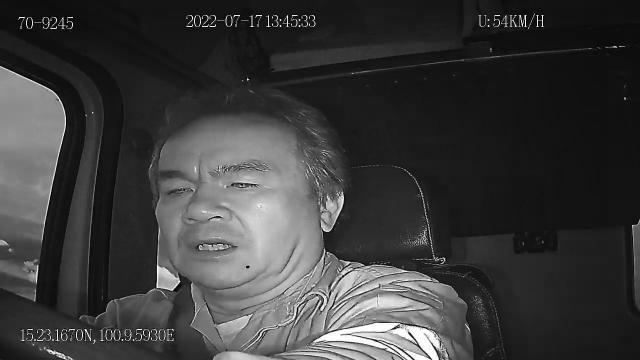SafeDriving: (218, 168, 268, 196), (156, 172, 198, 202)
Seatbelt: (168, 278, 214, 360)
